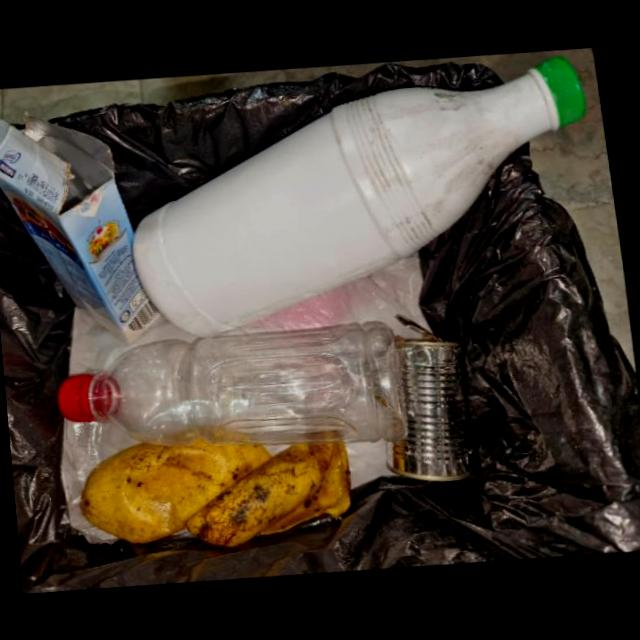chai_nhua: (138, 55, 592, 337)
chai_nhua_pet: (62, 324, 411, 446)
nhom: (389, 314, 472, 481)
vo_hop_sua: (0, 112, 166, 344)
vo_trai_cay: (79, 430, 354, 550)
